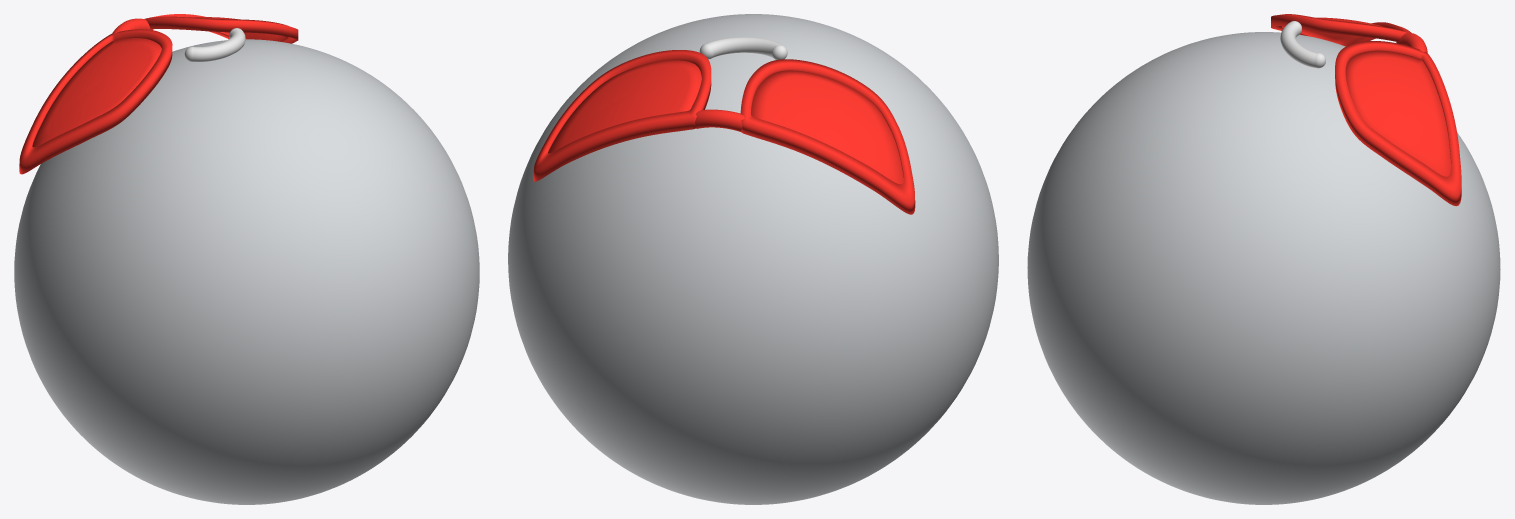
File: BioVerse_Club_Planet.glb
3 views of the same model, side by side, from view 1: azimuth 30°, elevation 25°; view 2: azimuth 150°, elevation 25°; view 3: azimuth 270°, elevation 25° (orthographic). The views are drawn at different scales.
Visible parts, largest first — view 1: Planet, Glasses_Frame_Left, Glasses_Lens_Left, Mouth; view 2: Planet, Glasses_Lens_Left, Glasses_Frame_Left, Mouth, Glasses_Bridge; view 3: Planet, Glasses_Lens_Left, Glasses_Frame_Left, Mouth.
Part boxes in pixels (<box>): Planet: <box>14,39,479,504</box>; Glasses_Frame_Left: <box>19,14,298,174</box>; Glasses_Lens_Left: <box>32,17,288,147</box>; Mouth: <box>192,29,245,61</box>; Planet: <box>508,14,998,504</box>; Glasses_Lens_Left: <box>548,60,903,184</box>; Glasses_Frame_Left: <box>533,50,915,214</box>; Mouth: <box>706,37,782,57</box>; Glasses_Bridge: <box>695,109,744,132</box>; Planet: <box>1027,32,1500,504</box>; Glasses_Lens_Left: <box>1281,17,1451,176</box>; Glasses_Frame_Left: <box>1271,14,1461,206</box>; Mouth: <box>1280,22,1317,67</box>.
Size of the model in its own units: 3.4 by 3.5 by 3.4.
